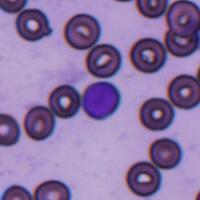L: (82, 80, 122, 119)
